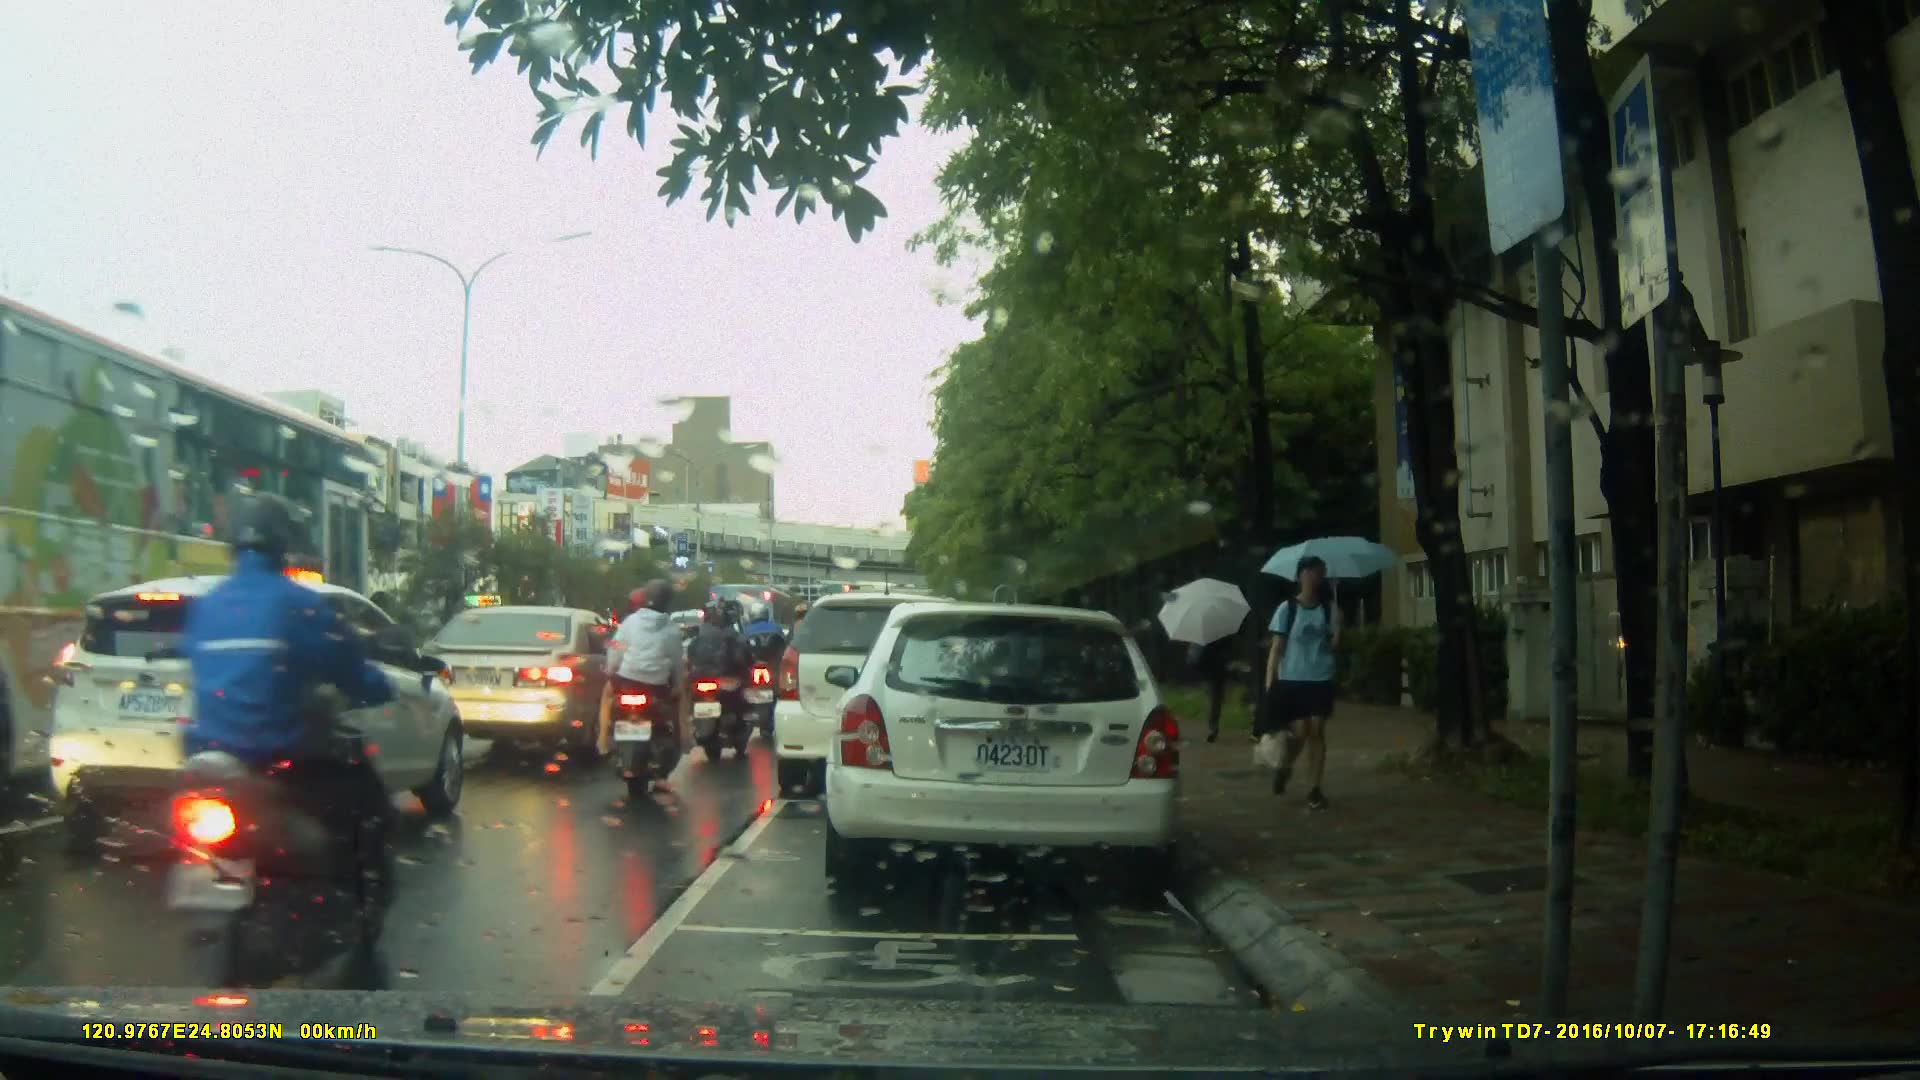pedestrian: (1244, 553, 1348, 818), (1192, 601, 1242, 738)
rider: (143, 495, 413, 986), (607, 582, 695, 808), (688, 595, 743, 768), (734, 597, 792, 743)
vehicle: (1, 292, 381, 771), (49, 573, 469, 873), (835, 594, 1194, 898), (776, 590, 1026, 784), (388, 603, 645, 764), (603, 619, 728, 715), (708, 582, 803, 672)
